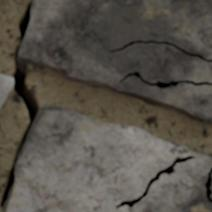brick: (19, 0, 211, 122), (2, 105, 211, 211), (0, 75, 12, 107)
crack: (0, 2, 39, 209), (108, 39, 211, 62), (118, 71, 211, 89)
